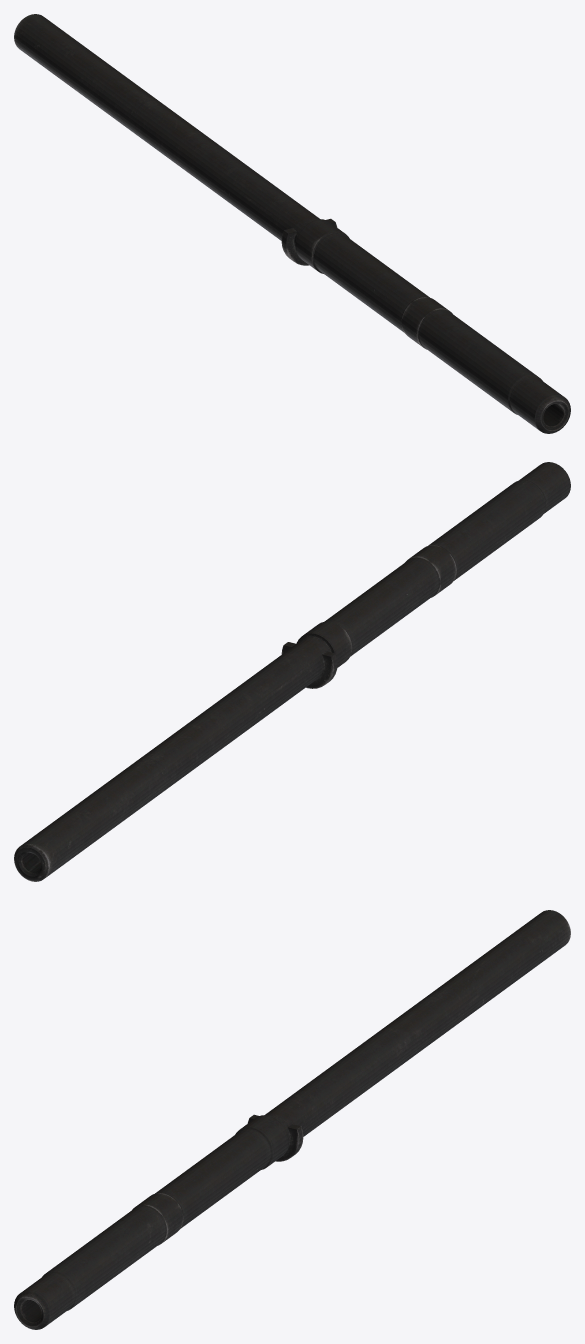
The picture shows the model from 3 angles, top to bottom: view 1: azimuth 30°, elevation 25°; view 2: azimuth 150°, elevation 25°; view 3: azimuth 330°, elevation 25°; orthographic projection.
Parts seen in each view (by area): view 1: TW_6698c8b7710a4525fe0e9e55_PZ_Import; view 2: TW_6698c8b7710a4525fe0e9e55_PZ_Import; view 3: TW_6698c8b7710a4525fe0e9e55_PZ_Import.
Part boxes in pixels (x1,y1,x2,y2): TW_6698c8b7710a4525fe0e9e55_PZ_Import: [14, 14, 570, 433]; TW_6698c8b7710a4525fe0e9e55_PZ_Import: [14, 462, 570, 881]; TW_6698c8b7710a4525fe0e9e55_PZ_Import: [14, 910, 570, 1329].
Size of the model in its own units: 0.0135 by 0.2386 by 0.0121.
1 material, 1 textured.
